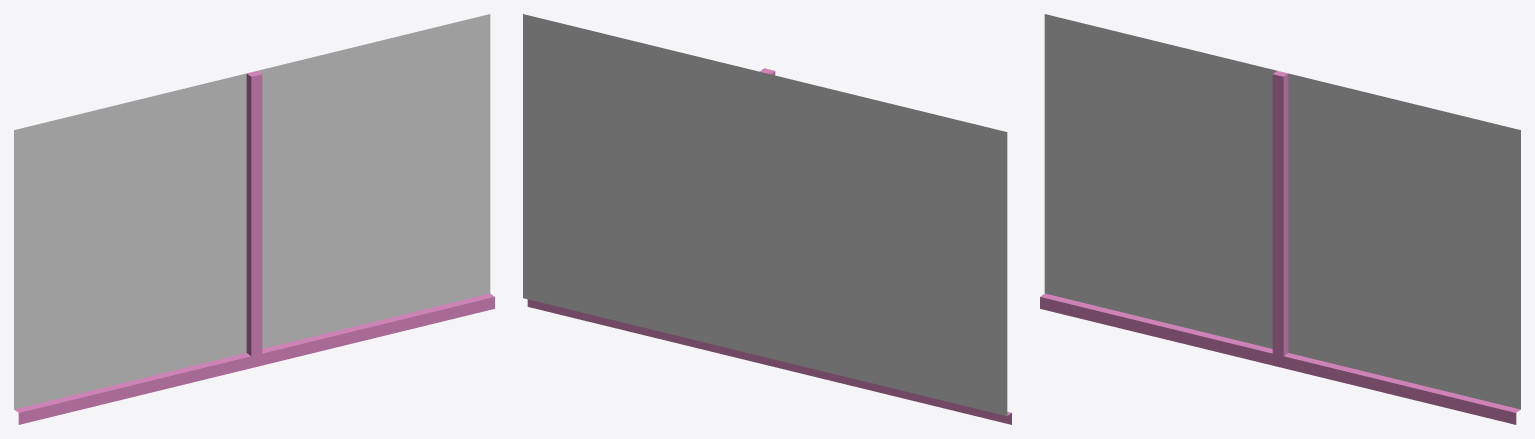
The model's file is Wall7.fbx.
3 views of the same model, side by side, from view 1: azimuth 30°, elevation 25°; view 2: azimuth 150°, elevation 25°; view 3: azimuth 330°, elevation 25° (orthographic).
Parts seen in each view (by area): view 1: Cube.018; view 2: Cube.018; view 3: Cube.018.
Part boxes in pixels (x1=…): Cube.018: x1=14, y1=14, x2=494, y2=424; Cube.018: x1=523, y1=14, x2=1011, y2=424; Cube.018: x1=1040, y1=14, x2=1520, y2=424.
Bounding box in the file's own units: 6 × 3.51 × 0.1024.
